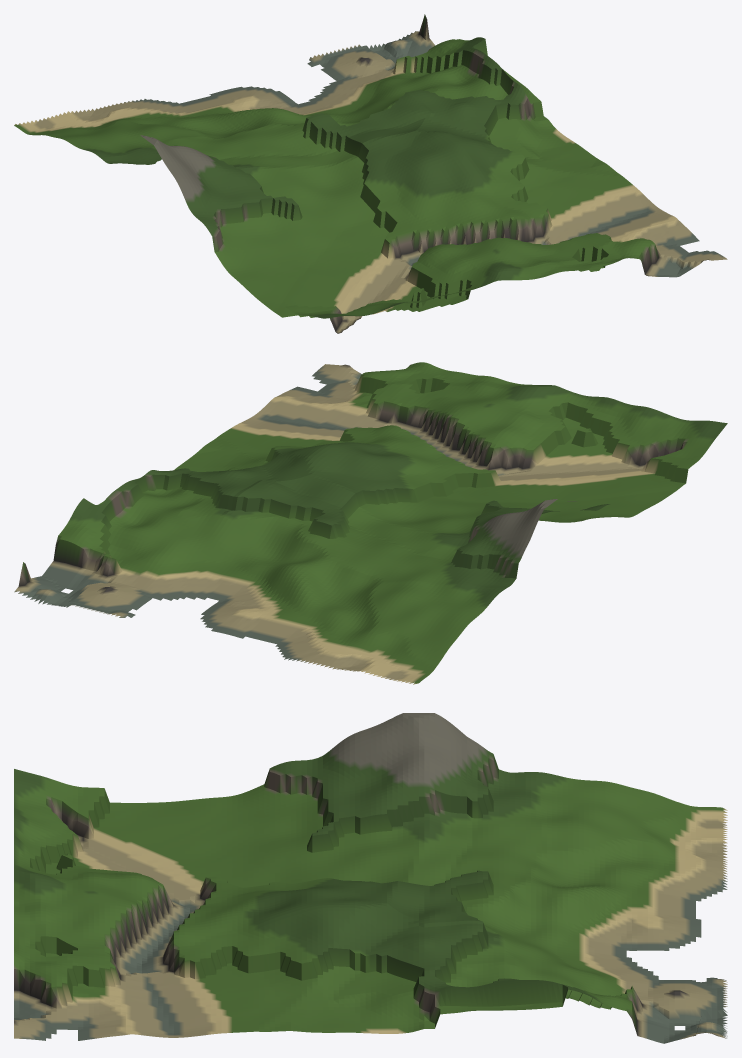
The model's file is coast_tile_x0z2.glb.
The picture shows the model from 3 angles, top to bottom: view 1: azimuth 30°, elevation 25°; view 2: azimuth 150°, elevation 25°; view 3: azimuth 270°, elevation 25°; orthographic projection. The views are drawn at different scales.
Parts seen in each view (by area): view 1: geometry_0; view 2: geometry_0; view 3: geometry_0.
Boxes of the visible parts, <box> form: geometry_0: <box>14,14,727,333</box>; geometry_0: <box>14,362,727,684</box>; geometry_0: <box>14,713,727,1043</box>.
Bounding box in the file's own units: 600 × 134 × 804.
